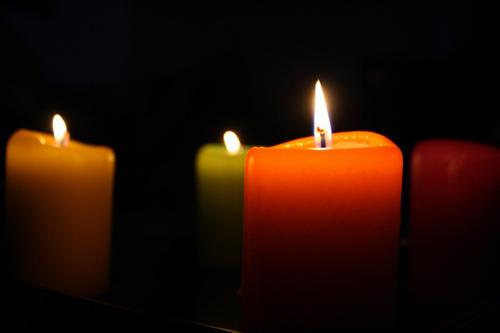Fire: (307, 78, 338, 149), (49, 110, 70, 144), (221, 127, 243, 154)
